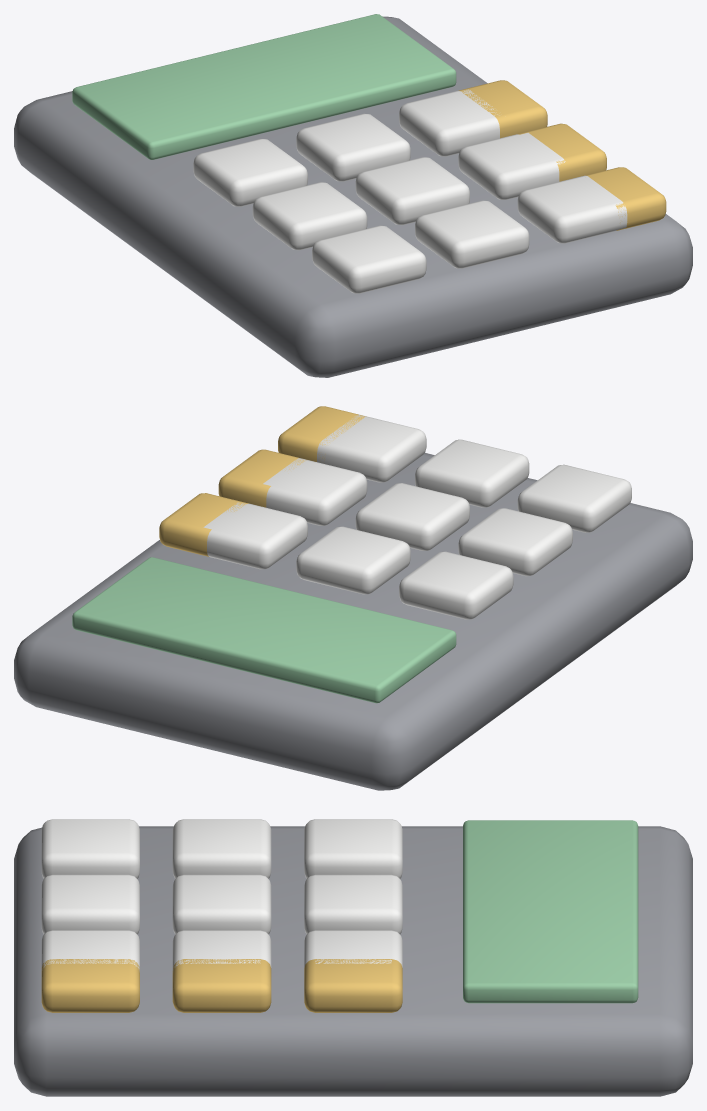
The model's file is products--credits.glb.
The picture shows the model from 3 angles, top to bottom: view 1: azimuth 30°, elevation 25°; view 2: azimuth 150°, elevation 25°; view 3: azimuth 270°, elevation 25°; orthographic projection. The views are drawn at different scales.
Parts seen in each view (by area): view 1: products--credits; view 2: products--credits; view 3: products--credits.
Part boxes in pixels (box(x1,y1,x2,y2)): products--credits: box(14, 14, 692, 377); products--credits: box(14, 406, 692, 790); products--credits: box(14, 819, 692, 1096).
Size of the model in its own units: 0.46 by 0.1101 by 0.6201.
